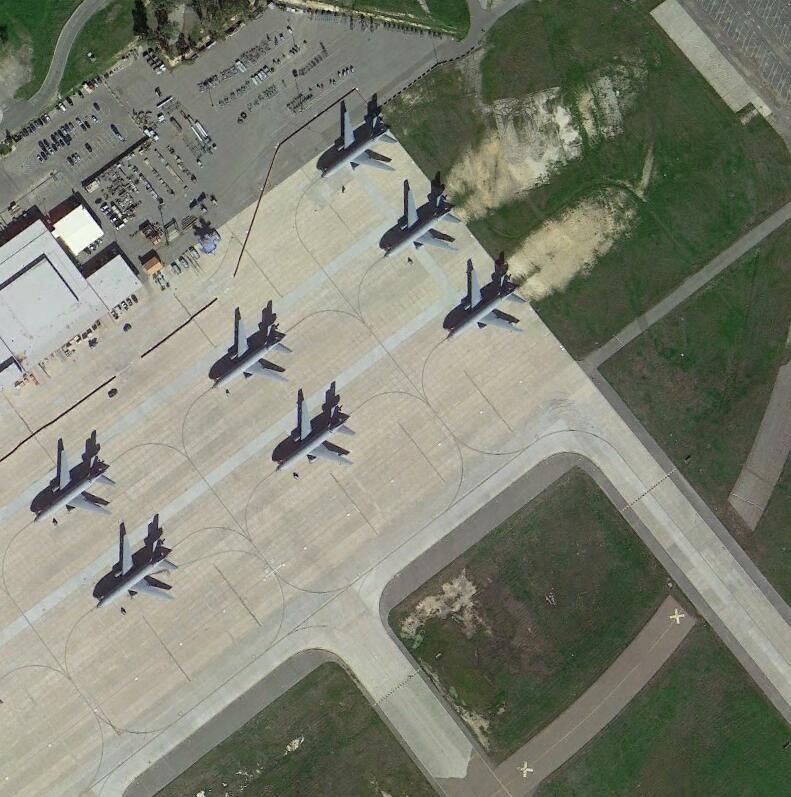A18: (90, 530, 180, 611), (445, 267, 535, 345), (315, 104, 399, 184), (29, 450, 116, 525), (275, 395, 358, 473), (382, 186, 466, 261), (213, 317, 294, 392)
